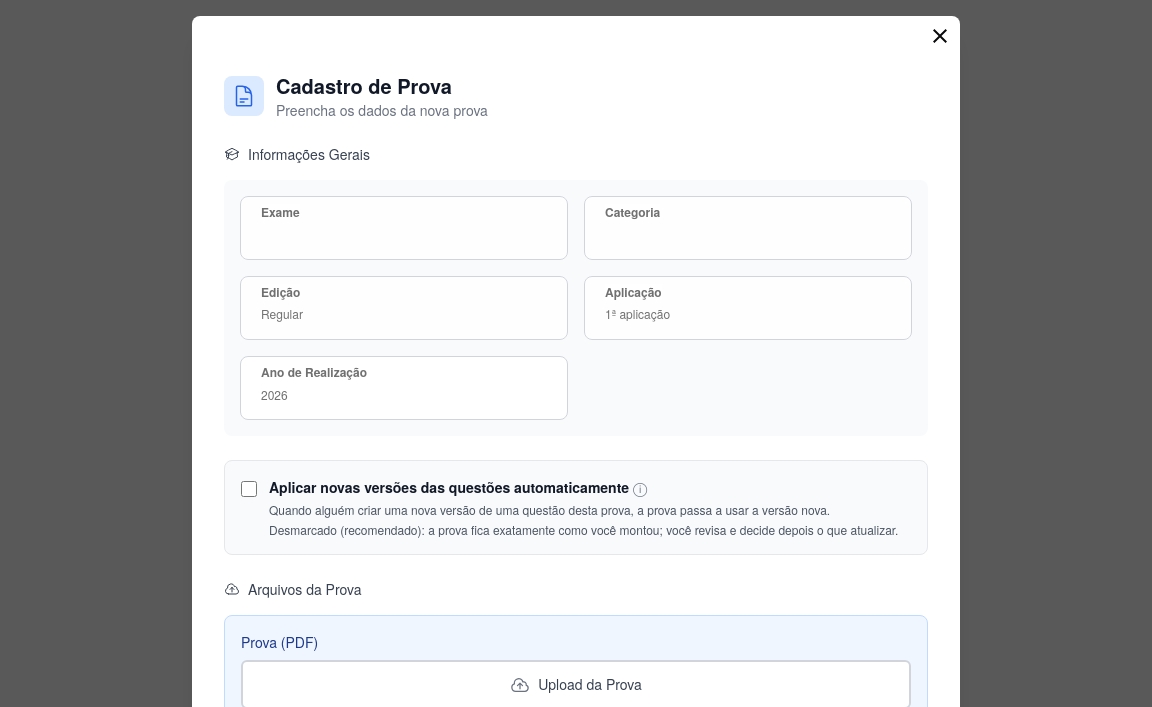
Scenario: NewProva — prova personalizada › não pede mais o nome do simulado
Select "Personalizado" in the dropdown named "exame" next to "Exame". click: (404, 228)
box: [240,196,568,260]
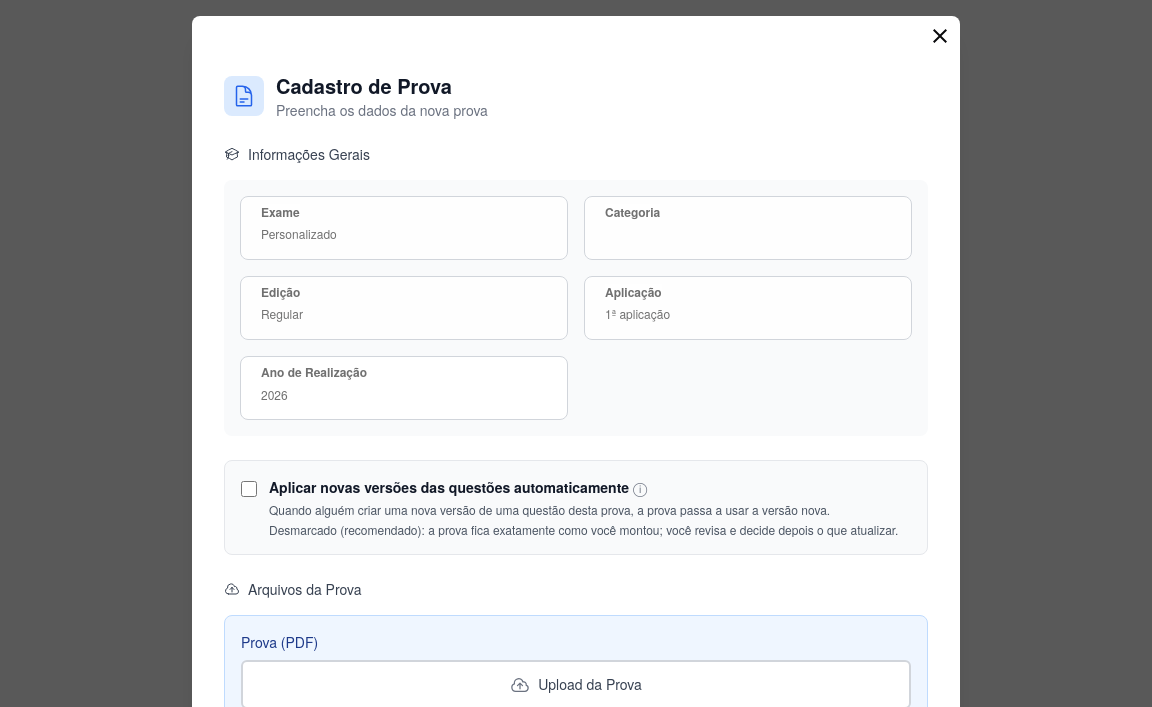
Select "Personalizado 30q 60min" in the dropdown named "categoria" next to "Categoria". click: (748, 228)
box: [584,196,912,260]
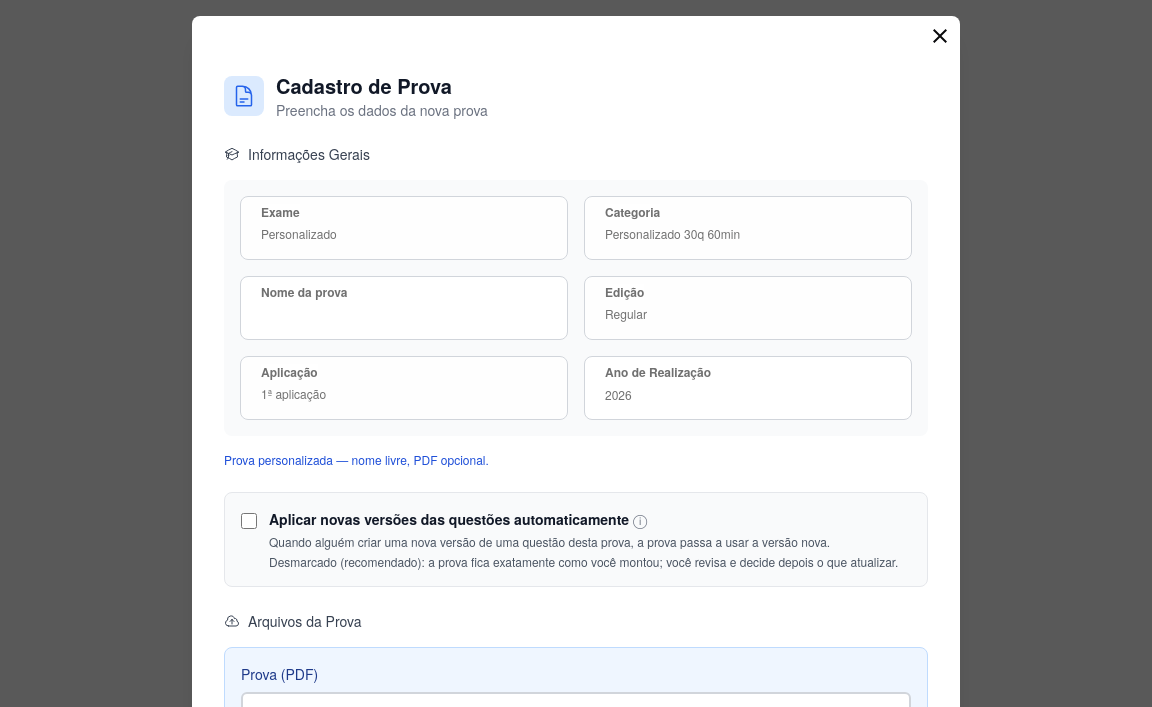
Expected: the text "Nome da prova" is shown, [261,284,347,300]
